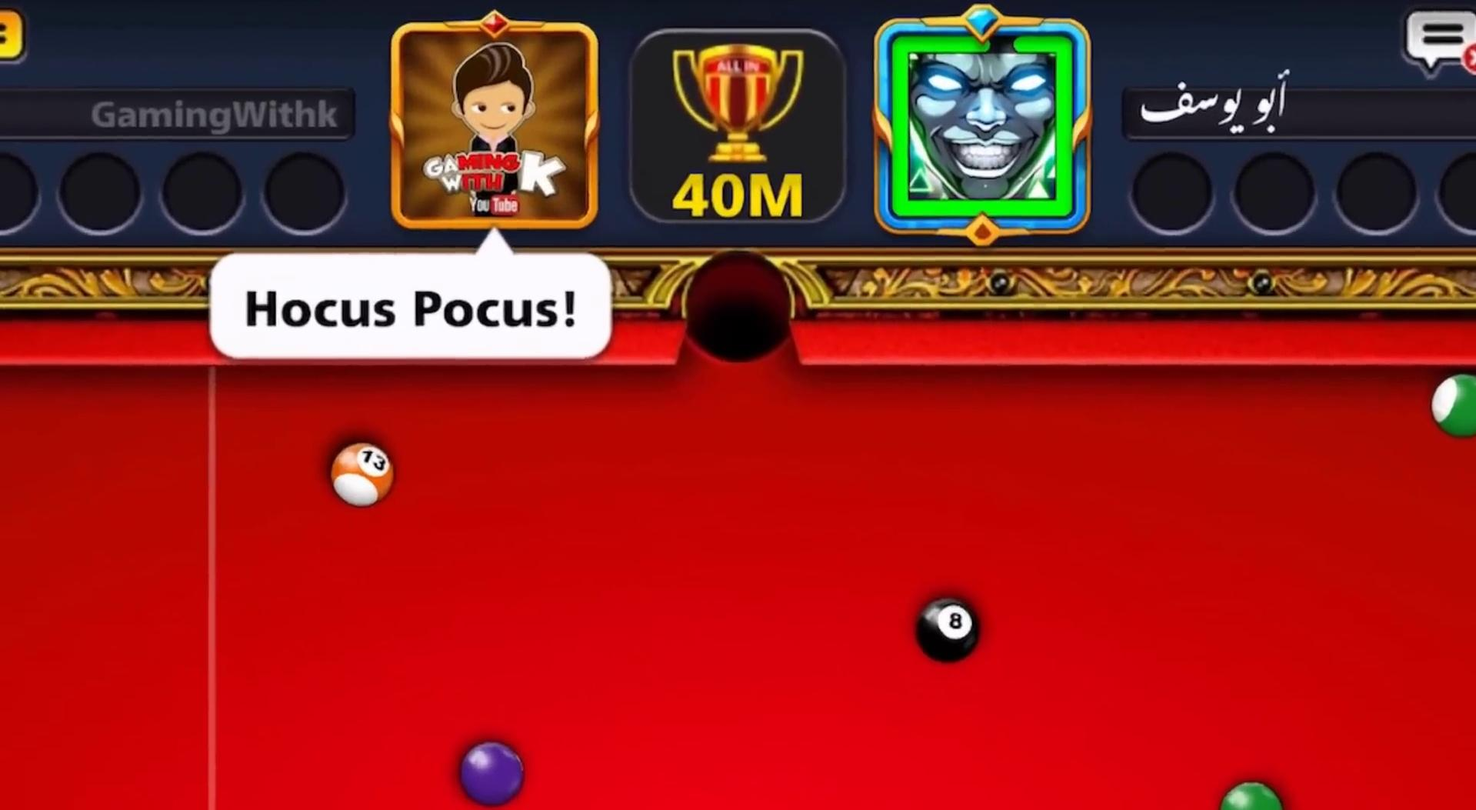Ball: (910, 589, 988, 670), (456, 730, 534, 809), (324, 437, 399, 510), (1424, 367, 1476, 441), (1215, 760, 1290, 810)
Hole: (680, 251, 798, 373)
